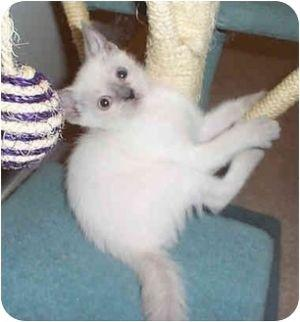siamese: (41, 13, 160, 146)
